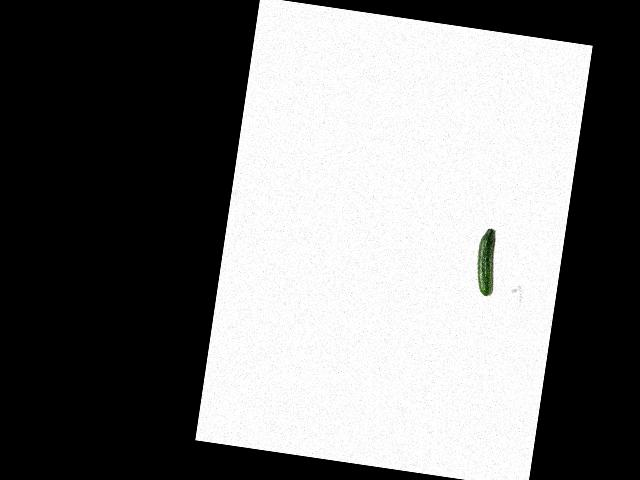cucumber: (472, 227, 501, 297)
